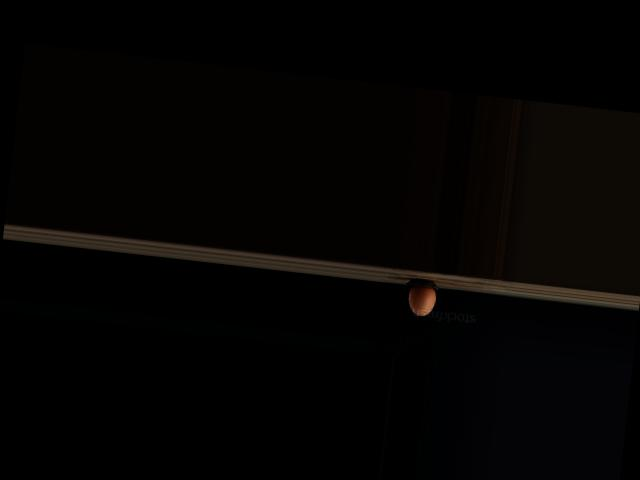egg: (406, 284, 436, 317)
